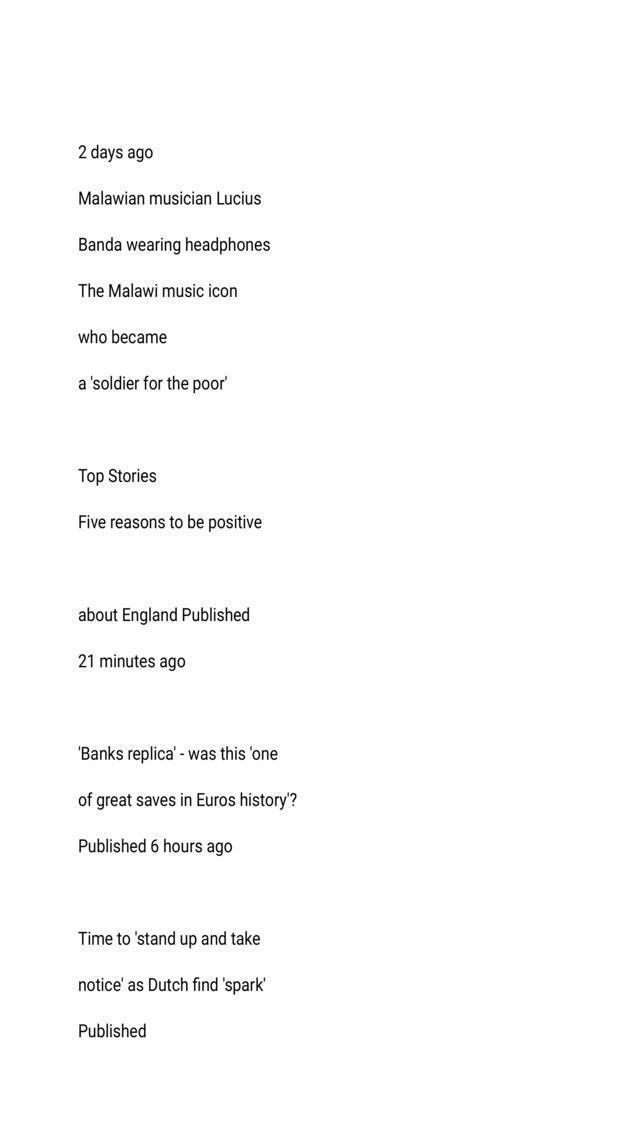Text: (74, 786, 302, 816), (72, 741, 282, 766), (70, 973, 274, 998), (73, 509, 265, 535), (74, 927, 268, 952), (72, 185, 266, 210), (73, 232, 278, 255), (73, 278, 242, 304), (72, 604, 255, 628), (76, 369, 233, 396), (74, 834, 237, 859), (76, 650, 188, 674), (74, 323, 174, 349), (76, 464, 162, 490), (74, 140, 158, 166), (72, 1018, 152, 1044)
